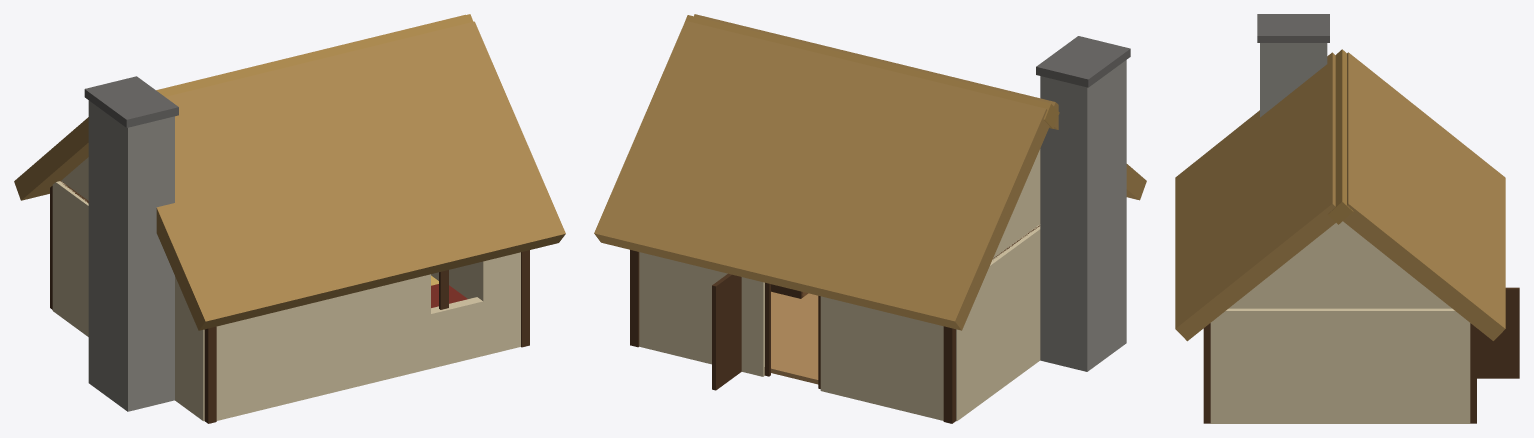
The model's file is house.glb.
The picture shows the model from 3 angles, left to right: view 1: azimuth 30°, elevation 25°; view 2: azimuth 150°, elevation 25°; view 3: azimuth 270°, elevation 25°; orthographic projection. The views are drawn at different scales.
Visible parts, largest first — view 1: house; view 2: house, floor; view 3: house.
Part boxes in pixels (left/top/right/bottom): house: left=14, top=14, right=565, bottom=423; house: left=594, top=14, right=1146, bottom=423; floor: left=771, top=291, right=818, bottom=384; house: left=1175, top=14, right=1519, bottom=423.
Size of the model in its own units: 7.52 by 5.38 by 6.63.
